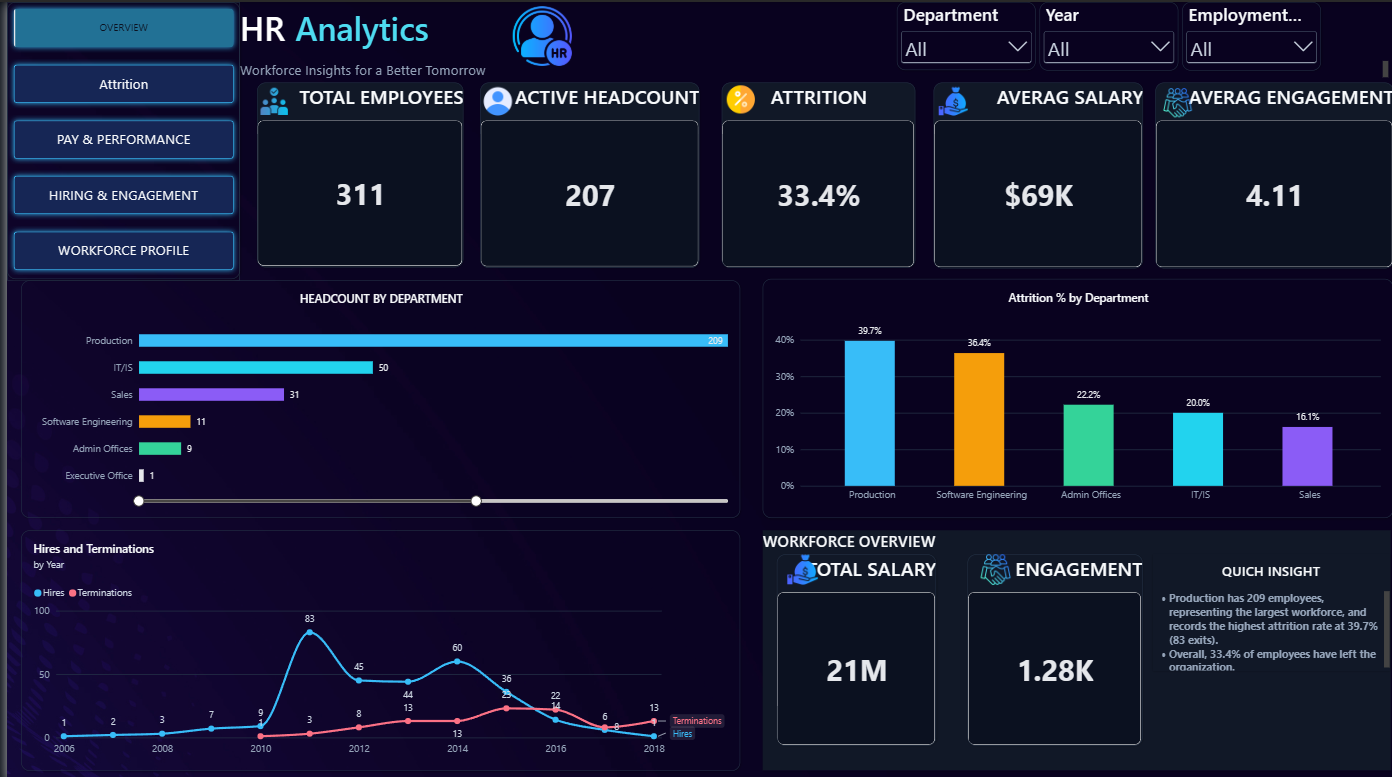

Layout of this report page (visuals, bound fields, positions):
{"tool":"powerbi","page":{"name":"OVERVIEW","canvas":[1920,1080],"ordinal":0},"visuals":[{"type":"shape","box":[0,0,322,385.4],"z":0},{"type":"textbox","title":"HR ","box":[322.5,0,1597,105],"z":0,"group":"g6"},{"type":"cardVisual","title":"TOTAL EMPLOYEES","fields":{"Data":["measure.total_employee"]},"box":[346,111.7,285,255.4],"z":0,"group":"g5"},{"type":"image","box":[684.7,0,109,93.8],"z":1000},{"type":"cardVisual","title":"ACTIVE HEADCOUNT","fields":{"Data":["measure.active_headcount"]},"box":[654.8,111.7,303.1,256.2],"z":1000,"group":"g2"},{"type":"cardVisual","title":"AVERAG SALARY","fields":{"Data":["measure.Avg Salary"]},"box":[1281.3,111.7,289.6,257],"z":1000,"group":"g3"},{"type":"cardVisual","title":"TOTAL SALARY","fields":{"Data":["Sum(HRDataset_v14.Salary_Num)"]},"box":[1063.4,762.1,220,264.5],"z":1000,"group":"g8"},{"type":"cardVisual","title":"ATTRITION ","fields":{"Data":["measure.Attrition %"]},"box":[987.7,111.7,267.7,256.5],"z":2000,"group":"g1"},{"type":"group","id":"g1","title":"Group 1","box":[987.7,111.7,267.2,256.2],"z":2000},{"type":"cardVisual","title":"AVERAG ENGAGEMENT","fields":{"Data":["measure.Avg Engagement"]},"box":[1587.8,111.7,329.4,257],"z":2000,"group":"g4"},{"type":"cardVisual","title":"ENGAGEMENT","fields":{"Data":["Sum(HRDataset_v14.Engagement_Num)"]},"box":[1327,762.1,241.8,264.5],"z":2000,"group":"g9"},{"type":"group","id":"g2","title":"Group 2","box":[654.8,111.7,304.4,256.2],"z":3000},{"type":"group","id":"g3","title":"Group 3","box":[1281.2,111.7,289.1,256.2],"z":4000},{"type":"image","box":[346,116.9,47.1,40.4],"z":4000,"group":"g5"},{"type":"image","box":[1588.7,119,62,40.5],"z":4000,"group":"g4"},{"type":"image","box":[1327.9,762.4,77.6,42.3],"z":4000,"group":"g9"},{"type":"group","id":"g4","title":"Group 4","box":[1587.8,111.7,328.5,256.2],"z":5000},{"type":"group","id":"g5","title":"Group 5","box":[346,111.7,284.7,256.2],"z":6000},{"type":"image","box":[990.1,116.3,48.7,38.8],"z":6000,"group":"g1"},{"type":"image","box":[654.8,116.9,48.8,40.5],"z":6002,"group":"g2"},{"type":"group","id":"g6","title":"Group 6","box":[322.5,0,1597,105],"z":7000},{"type":"textbox","title":"Analytics","box":[397.5,0,200,70],"z":8000},{"type":"image","box":[1281.2,118,54.5,40.5],"z":8000,"group":"g3"},{"type":"image","box":[1066.4,762.4,64.1,42.4],"z":8000,"group":"g8"},{"type":"clusteredBarChart","title":"HEADCOUNT BY DEPARTMENT","fields":{"Category":["HRDataset_v14.Department"],"Y":["measure.total_employee"]},"box":[19.7,385.4,994.3,328.5],"z":9000},{"type":"clusteredColumnChart","fields":{"Category":["HRDataset_v14.Department"],"Y":["measure.Attrition %"]},"box":[1044.7,383.3,871.6,330.7],"z":10000},{"type":"lineChart","fields":{"Category":["DimDate.Year"],"Y":["measure.Hires","measure.Terminations"]},"box":[19.7,729.3,994.3,332.9],"z":11000},{"type":"slicer","fields":{"Values":["HRDataset_v14.Department"]},"box":[1230.9,0,192.2,93.9],"z":12000},{"type":"slicer","fields":{"Values":["DimDate.Year"]},"box":[1427.7,0,192.2,95.2],"z":13000},{"type":"slicer","fields":{"Values":["HRDataset_v14.EmploymentStatus"]},"box":[1624.5,0,192.2,95.2],"z":14000},{"type":"pageNavigator","box":[0,0,322,382.9],"z":15000},{"type":"group","id":"g7","title":"Group 7","box":[1044.7,729.3,869.4,332.9],"z":16000},{"type":"textbox","title":"WORKFORCE OVERVIEW","box":[1044.7,729.3,869.4,332.9],"z":17000,"group":"g7"},{"type":"group","id":"g8","title":"Group 3","box":[1063.4,762.1,220,264.5],"z":20000,"group":"g7"},{"type":"group","id":"g9","title":"Group 4","box":[1327,762.1,241.8,264.5],"z":21000,"group":"g7"},{"type":"textbox","title":" QUICH INSIGHT","box":[1584.1,761.9,327.7,161],"z":22000,"group":"g7"}]}

Visuals, with their boxes in screenshot pixels (x1, y1, x2, y2), scaled from the page's 1920x1080 canvas onto the 1392x777 screenshot:
shape: 0,0,233,277
"HR " textbox: 234,0,1391,76
"TOTAL EMPLOYEES" cardVisual: 251,80,457,264
image: 496,0,575,67
"ACTIVE HEADCOUNT" cardVisual: 475,80,694,265
"AVERAG SALARY" cardVisual: 929,80,1139,265
"TOTAL SALARY" cardVisual: 771,548,930,739
"ATTRITION " cardVisual: 716,80,910,265
"Group 1" group: 716,80,910,265
"AVERAG ENGAGEMENT" cardVisual: 1151,80,1390,265
"ENGAGEMENT" cardVisual: 962,548,1137,739
"Group 2" group: 475,80,695,265
"Group 3" group: 929,80,1138,265
image: 251,84,285,113
image: 1152,86,1197,115
image: 963,549,1019,579
"Group 4" group: 1151,80,1389,265
"Group 5" group: 251,80,457,265
image: 718,84,753,112
image: 475,84,510,113
"Group 6" group: 234,0,1391,76
"Analytics" textbox: 288,0,433,50
image: 929,85,968,114
image: 773,549,820,579
"HEADCOUNT BY DEPARTMENT" clusteredBarChart: 14,277,735,514
clusteredColumnChart - HRDataset_v14.Department x measure.Attrition %: 757,276,1389,514
lineChart - DimDate.Year x measure.Hires: 14,525,735,764
slicer - HRDataset_v14.Department: 892,0,1032,68
slicer - DimDate.Year: 1035,0,1174,68
slicer - HRDataset_v14.EmploymentStatus: 1178,0,1317,68
pageNavigator: 0,0,233,275
"Group 7" group: 757,525,1388,764
"WORKFORCE OVERVIEW" textbox: 757,525,1388,764
"Group 3" group: 771,548,930,739
"Group 4" group: 962,548,1137,739
" QUICH INSIGHT" textbox: 1148,548,1386,664
